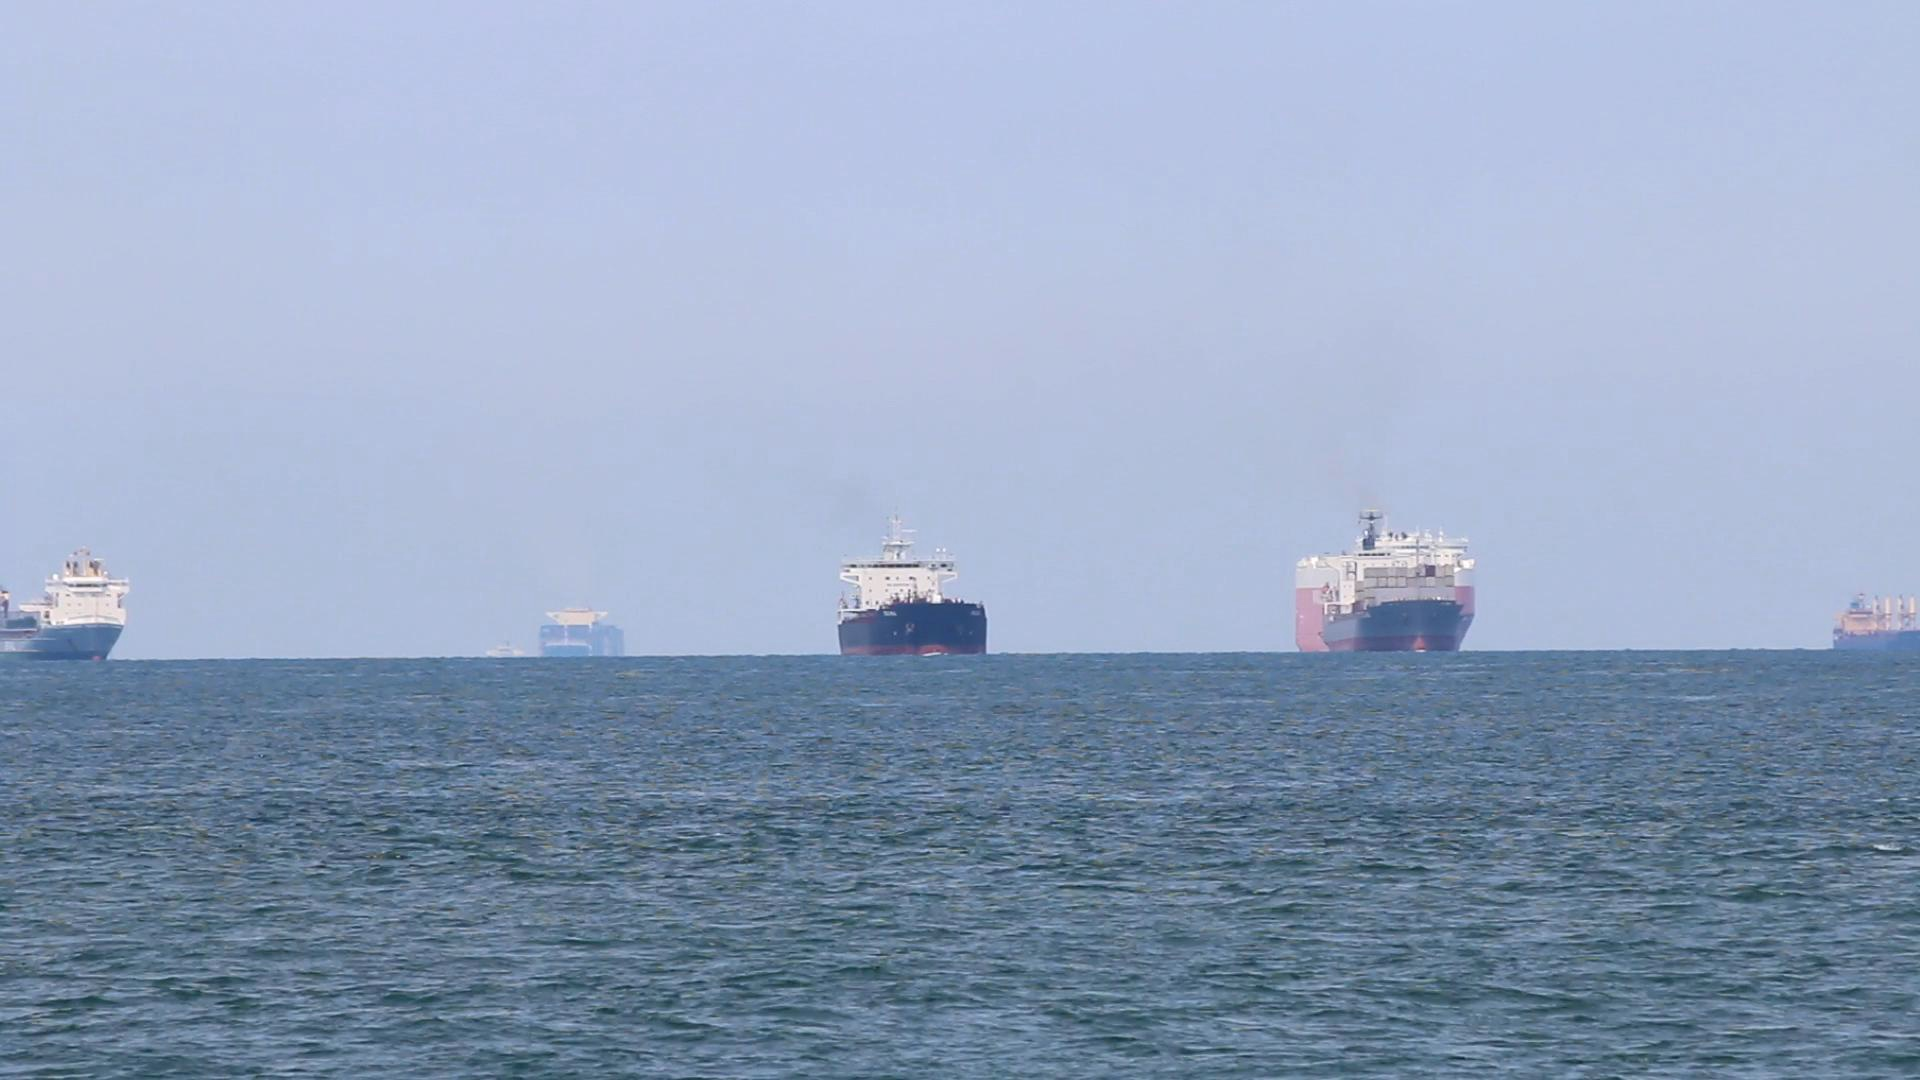Container Ship: (1290, 500, 1481, 661), (831, 501, 989, 657), (3, 545, 136, 662), (1824, 587, 1917, 654), (533, 599, 630, 661), (475, 634, 537, 663)
